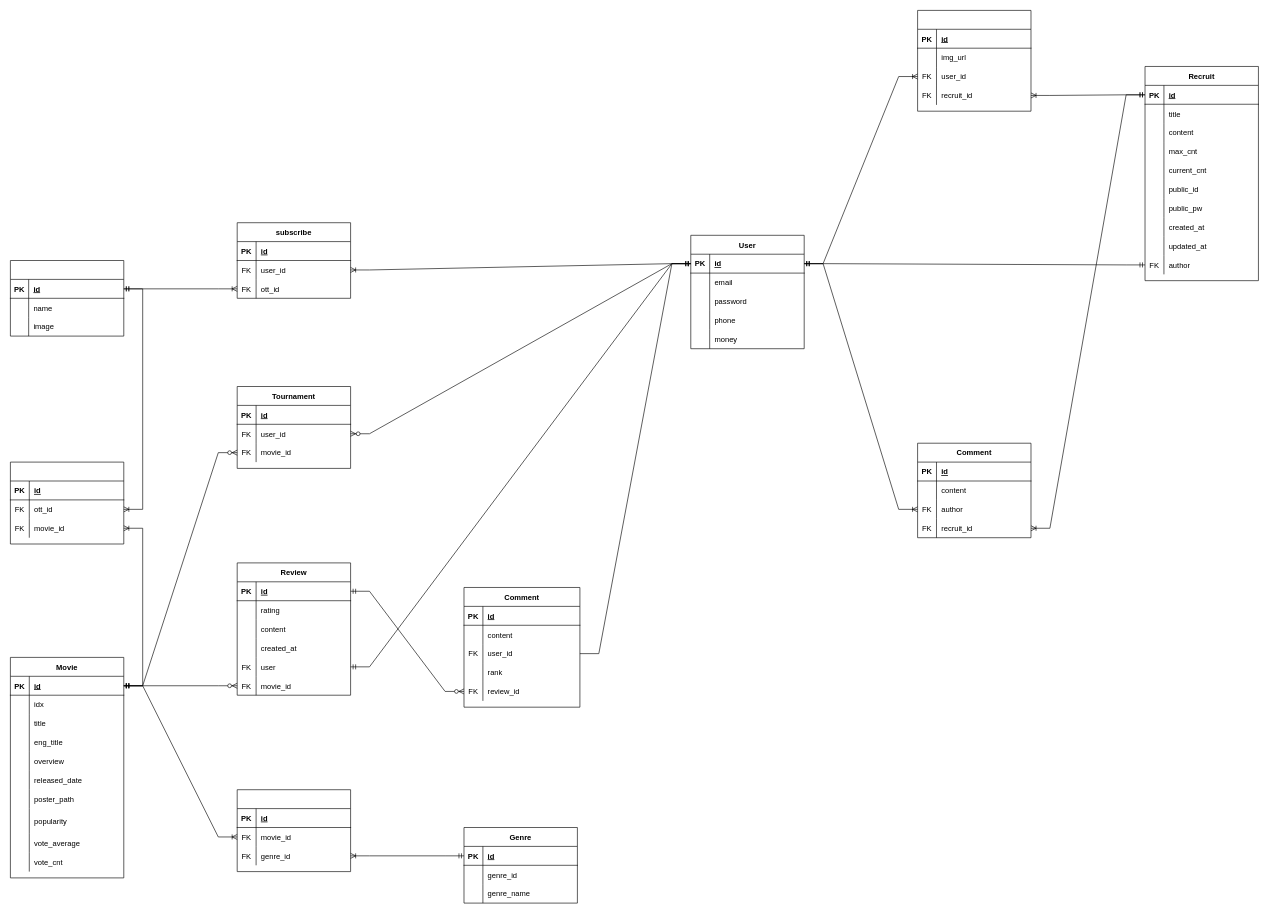
Image size: 1269x914. Some labels were removed from this diagram. Here are the shapes that lost their labels. From the top down, the box of each, then its label:
(917, 10, 1031, 111): Collected
(10, 260, 124, 336): OTT
(10, 461, 124, 544): movie_ott
(237, 789, 351, 872): movie_genre
